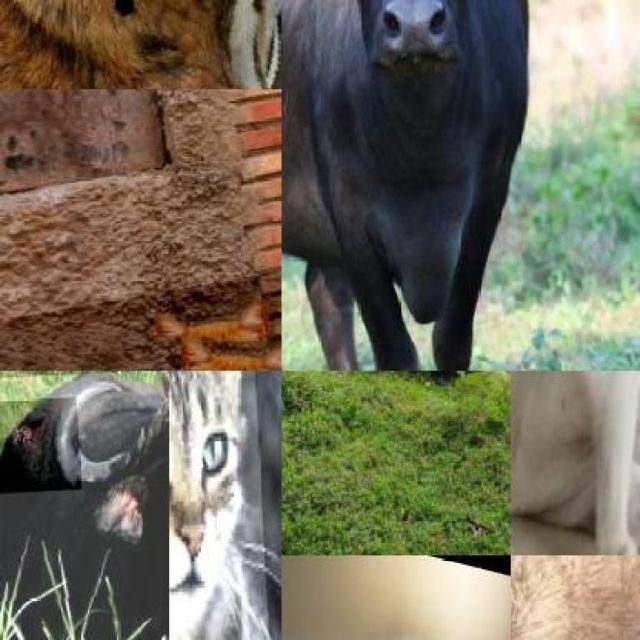buffalo: (282, 0, 526, 371), (0, 371, 169, 640)
cat: (0, 269, 282, 371), (169, 371, 274, 640), (282, 555, 510, 640)
dog: (0, 0, 282, 89), (511, 371, 640, 555)
injured: (0, 396, 80, 492)
